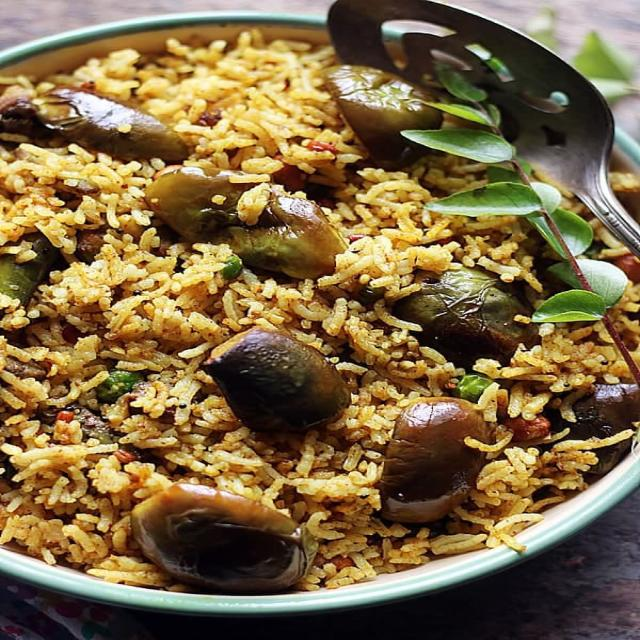vangi bath: (0, 25, 640, 608)
